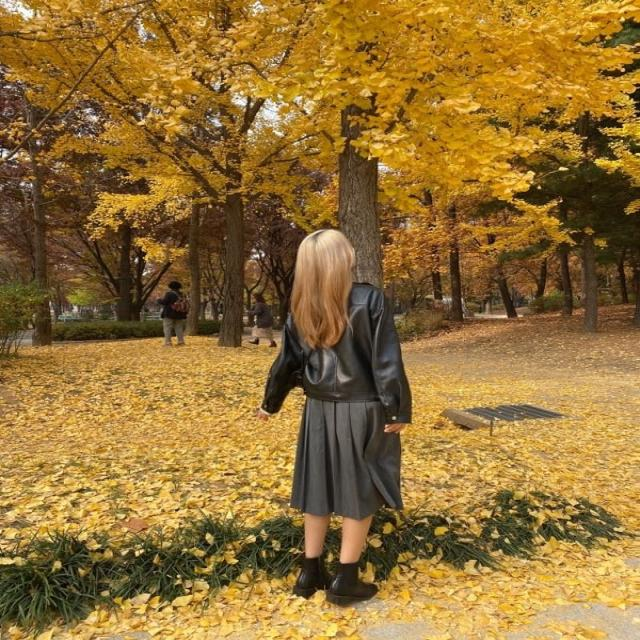jacket: (264, 280, 416, 423)
skirt: (292, 396, 403, 518)
